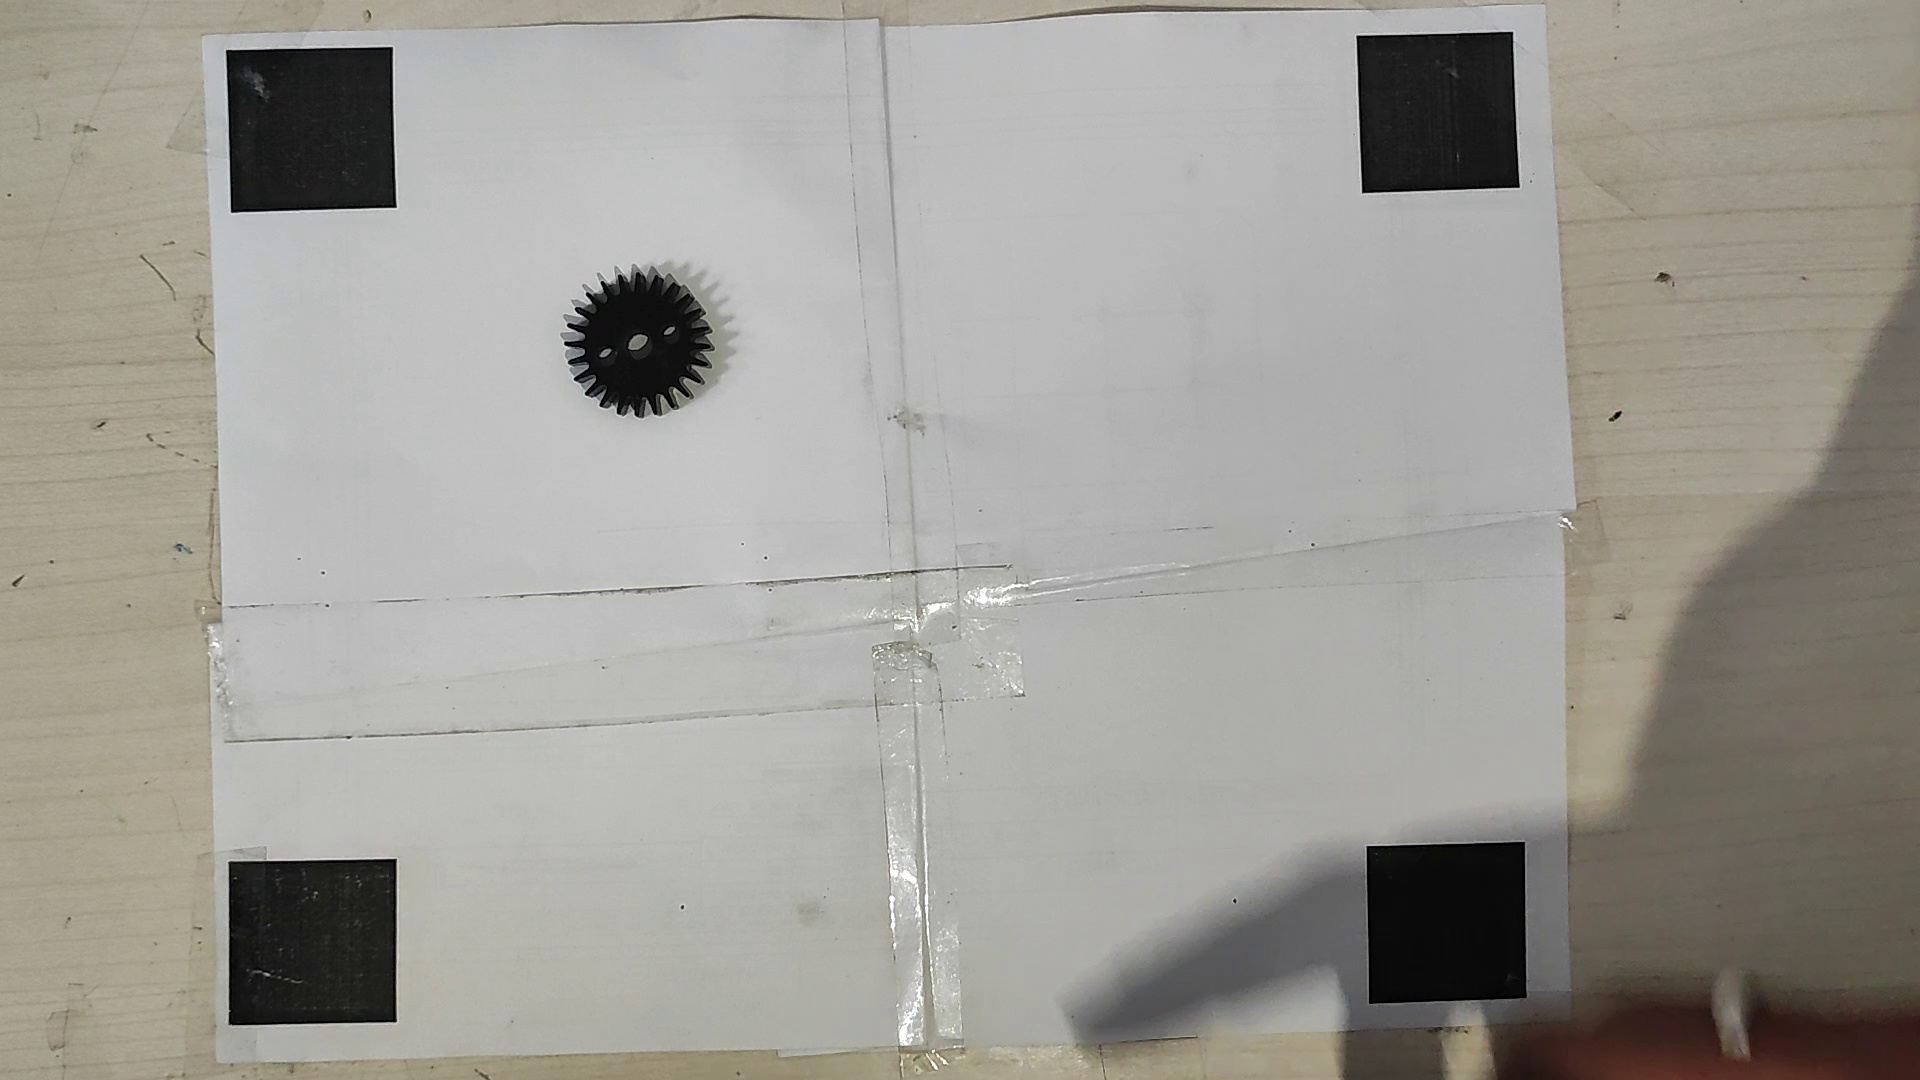Gear: (562, 266, 718, 420)
